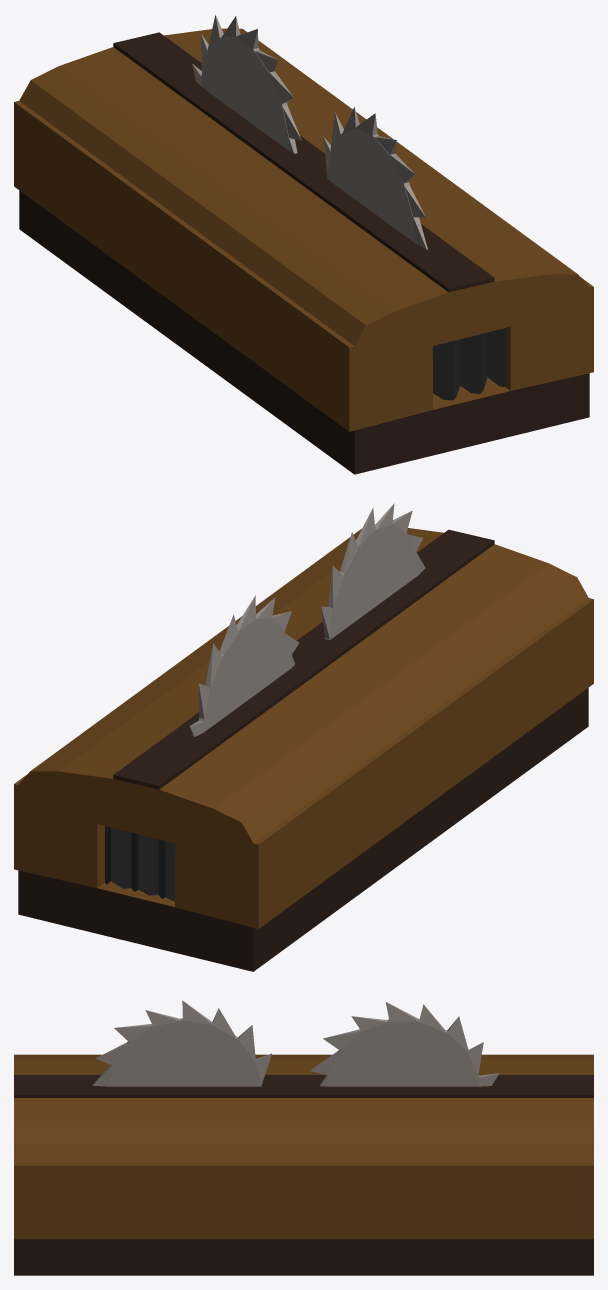
The model's file is Upgrader.fbx.
The picture shows the model from 3 angles, top to bottom: view 1: azimuth 30°, elevation 25°; view 2: azimuth 150°, elevation 25°; view 3: azimuth 270°, elevation 25°; orthographic projection. The views are drawn at different scales.
Visible parts, largest first — view 1: Cube, Cylinder.003, Cylinder.002, Plane, Cylinder, Cylinder.001; view 2: Cube, Cylinder.002, Cylinder.003, Plane.001, Cylinder.001, Cylinder; view 3: Cube, Cylinder.002, Cylinder.003, Cylinder, Cylinder.001.
Boxes of the visible parts, x1,y1,x2,y2 form: Cube: (14, 28, 593, 474); Cylinder.003: (327, 112, 427, 249); Cylinder.002: (192, 14, 297, 153); Plane: (432, 328, 505, 400); Cylinder: (201, 16, 301, 140); Cylinder.001: (323, 107, 425, 217); Cube: (14, 528, 593, 971); Cylinder.002: (189, 595, 295, 736); Cylinder.003: (324, 508, 425, 639); Plane.001: (105, 826, 175, 901); Cylinder.001: (321, 503, 423, 638); Cylinder: (199, 598, 299, 718); Cube: (14, 1054, 593, 1275); Cylinder.002: (320, 1002, 499, 1086); Cylinder.003: (92, 1000, 261, 1086); Cylinder: (310, 1004, 483, 1075); Cylinder.001: (95, 1008, 271, 1085).
Size of the model in its own units: 316 by 323 by 751.
